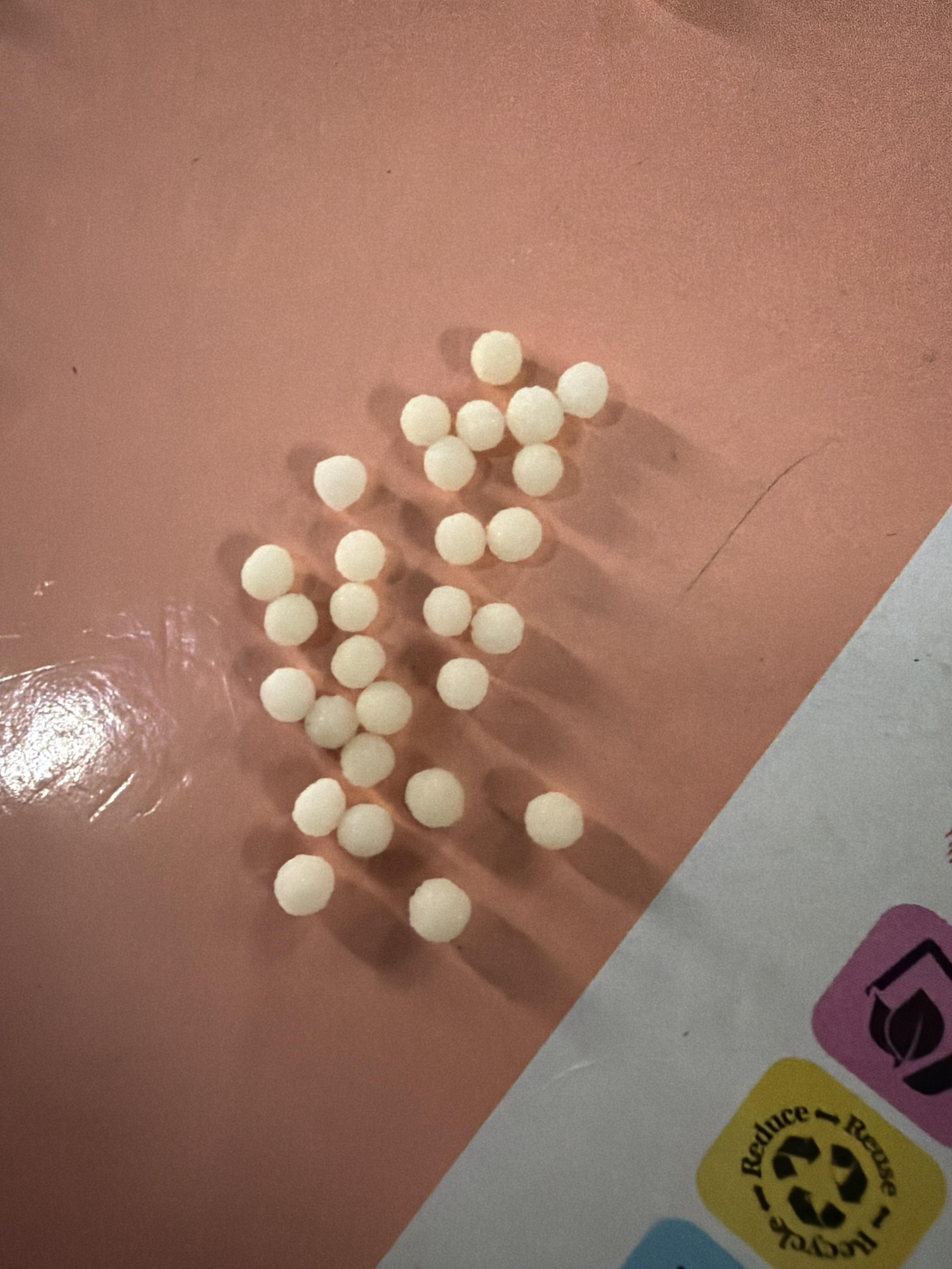pill: (409, 878, 471, 942), (274, 855, 334, 916), (405, 768, 464, 828), (524, 792, 583, 849), (506, 386, 563, 445), (486, 506, 542, 562), (337, 803, 394, 858), (292, 778, 345, 837), (340, 732, 395, 787), (260, 667, 315, 722), (241, 544, 294, 601), (356, 682, 412, 735), (423, 435, 476, 491), (556, 362, 608, 419), (304, 695, 358, 749), (331, 635, 385, 689), (314, 455, 367, 510), (264, 594, 318, 646), (470, 331, 522, 385), (436, 658, 489, 710), (512, 443, 564, 496), (434, 512, 486, 565), (472, 602, 524, 654), (335, 529, 386, 582), (400, 394, 451, 446), (455, 399, 504, 452), (423, 586, 472, 636), (329, 582, 378, 632)
